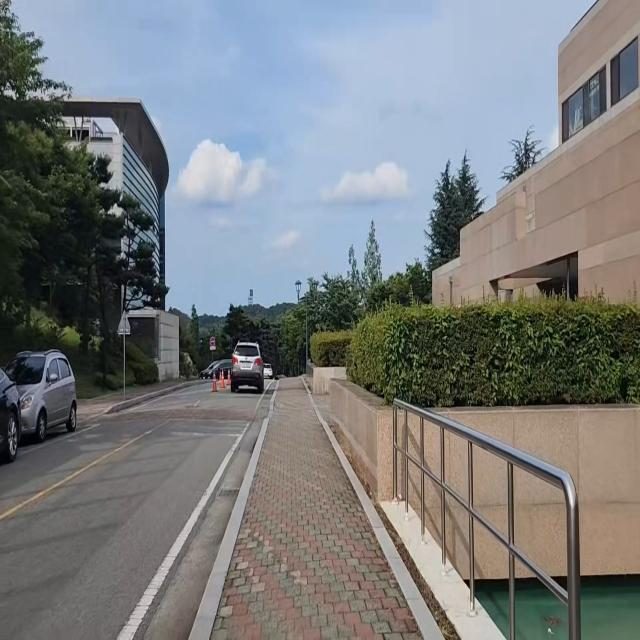obstacle: (1, 347, 80, 456), (220, 336, 266, 399), (0, 359, 28, 462)
road: (0, 381, 277, 640)
sidewalk: (188, 370, 447, 640)
